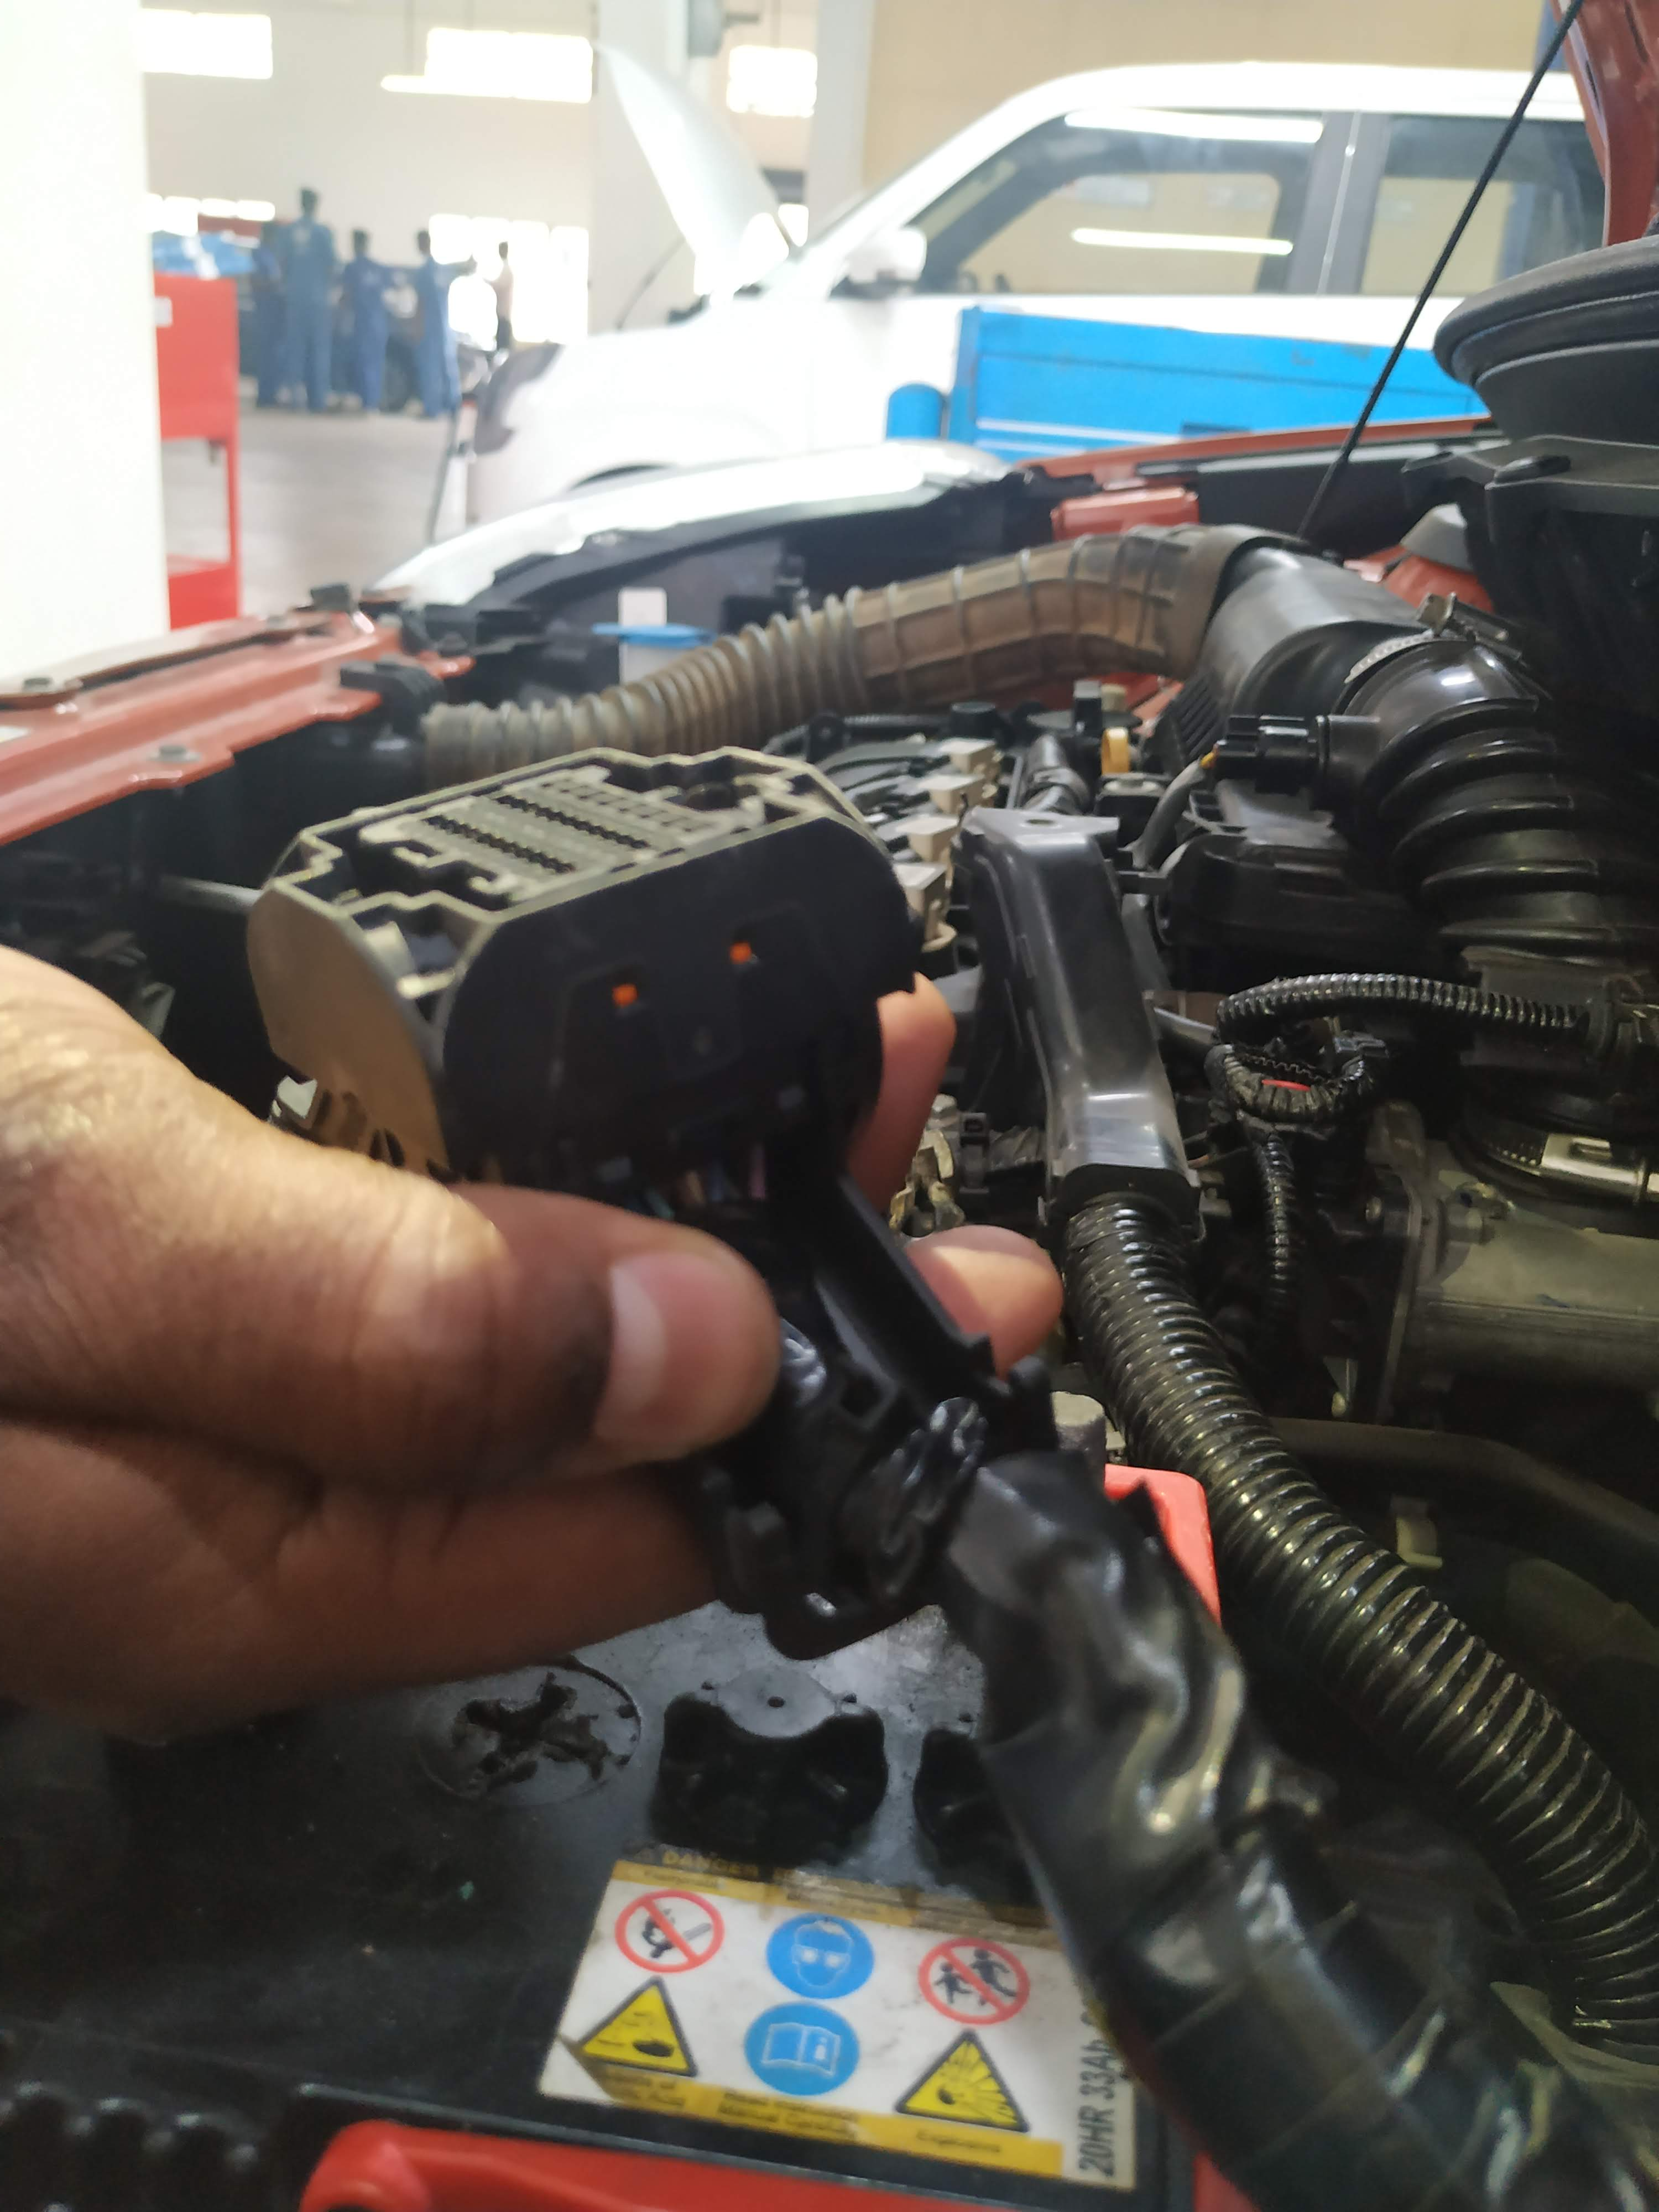connector: (211, 726, 948, 1228)
